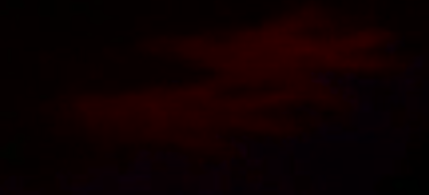paw: (72, 86, 307, 157), (173, 11, 404, 79)
